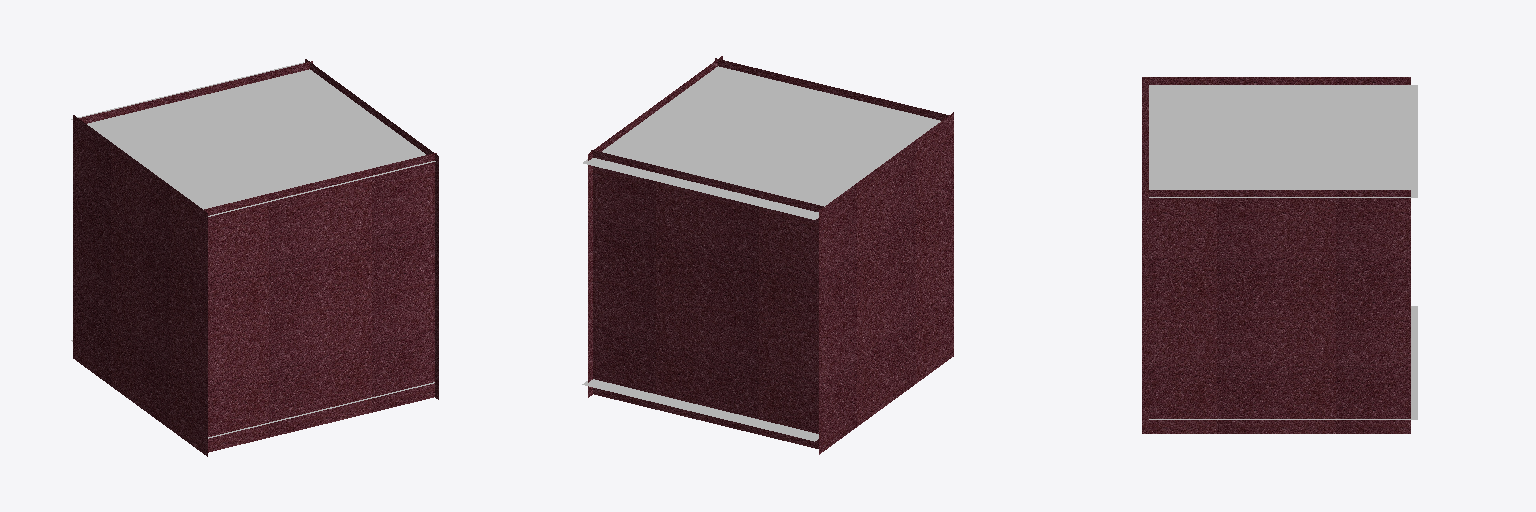
3 renders of one model, left to right at view 1: azimuth 30°, elevation 25°; view 2: azimuth 150°, elevation 25°; view 3: azimuth 270°, elevation 25°, orthographic.
Parts seen in each view (by area): view 1: Plane.003, Plane, Plane.004_Plane.005, Plane.001, Plane.002_Plane.004; view 2: Plane.002_Plane.004, Plane, Plane.004_Plane.005, Plane.001, Plane.005_Plane.006, Plane.003; view 3: Plane.001, Plane.004_Plane.005, Plane, Plane.005_Plane.006.
Part boxes in pixels (bbox=[...]): Plane.003: bbox=[204, 153, 436, 452]; Plane: bbox=[73, 115, 207, 456]; Plane.004_Plane.005: bbox=[71, 62, 435, 216]; Plane.001: bbox=[305, 59, 438, 399]; Plane.002_Plane.004: bbox=[79, 61, 312, 123]; Plane.002_Plane.004: bbox=[591, 150, 823, 448]; Plane: bbox=[819, 112, 953, 454]; Plane.004_Plane.005: bbox=[583, 66, 940, 219]; Plane.001: bbox=[588, 56, 722, 397]; Plane.005_Plane.006: bbox=[582, 379, 818, 441]; Plane.003: bbox=[715, 58, 948, 120]; Plane.001: bbox=[1142, 190, 1410, 433]; Plane.004_Plane.005: bbox=[1149, 85, 1417, 197]; Plane: bbox=[1142, 77, 1410, 189]; Plane.005_Plane.006: bbox=[1149, 306, 1417, 419].
Bounding box in the file's own units: 8.03 × 8 × 8.2.
Materials: 2 (1 with a texture image).